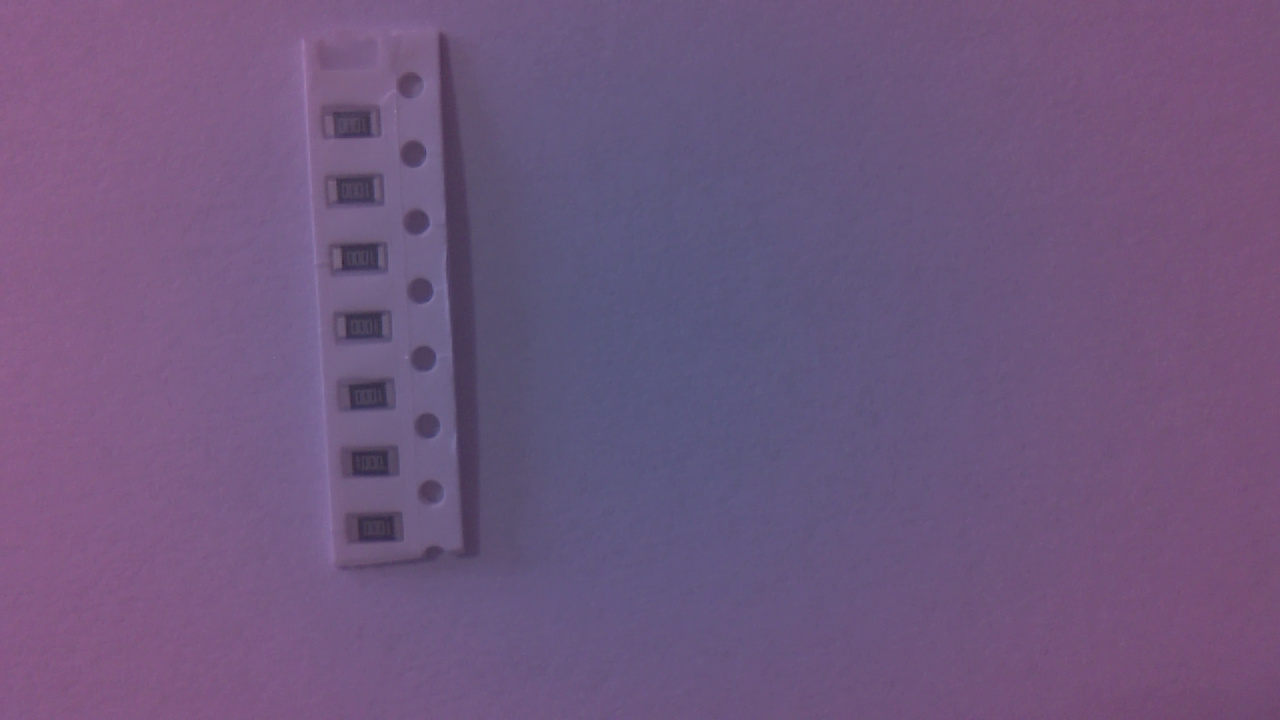Resistor: (332, 178, 393, 214), (344, 449, 404, 484), (332, 246, 395, 279), (328, 111, 390, 144), (350, 514, 409, 548), (341, 382, 401, 414), (337, 315, 395, 347)
